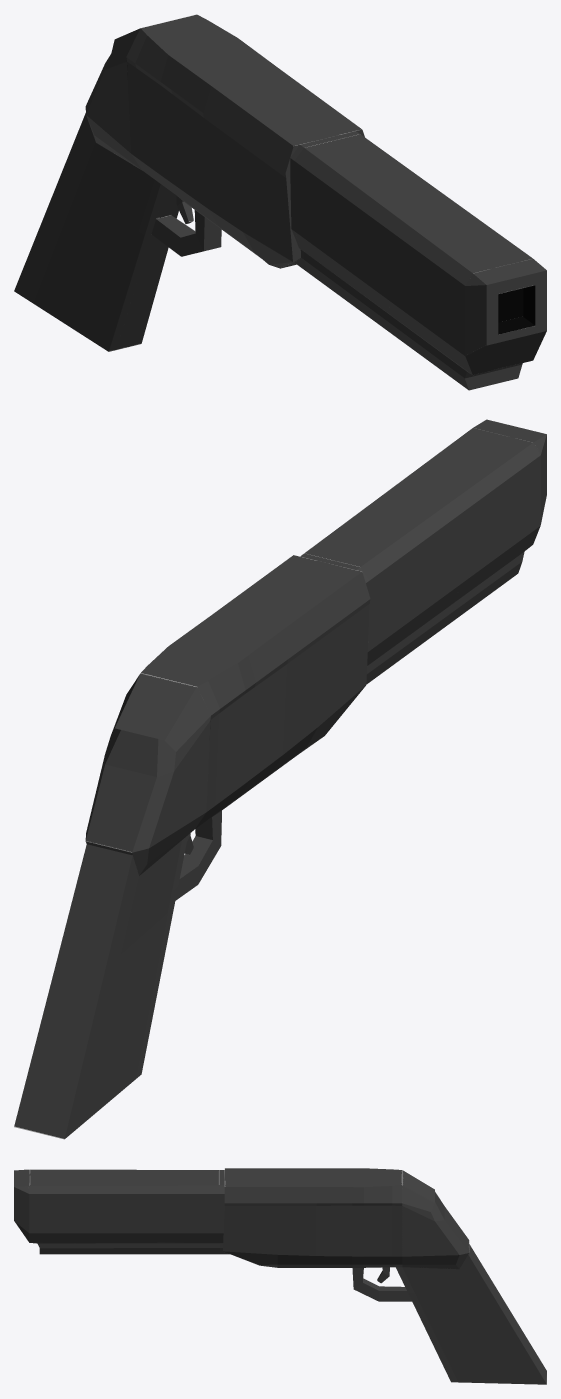
Rendered from Pistol.fbx.
3 views of the same model, one above another, from view 1: azimuth 30°, elevation 25°; view 2: azimuth 150°, elevation 25°; view 3: azimuth 270°, elevation 25° (orthographic). The views are drawn at different scales.
Visible parts, largest first — view 1: Pistol; view 2: Pistol; view 3: Pistol.
Boxes of the visible parts, x1,y1,x2,y2 form: Pistol: (14,14,546,390); Pistol: (14,419,546,1139); Pistol: (14,1168,546,1384).
Bounding box in the file's own units: 39.59 × 160 × 385.
